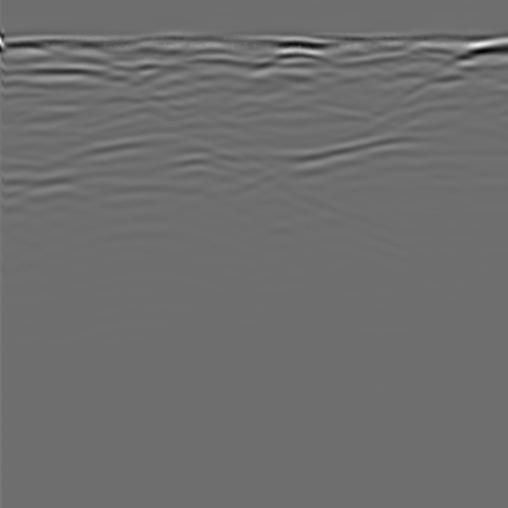hyperbola: (2, 119, 311, 258)
